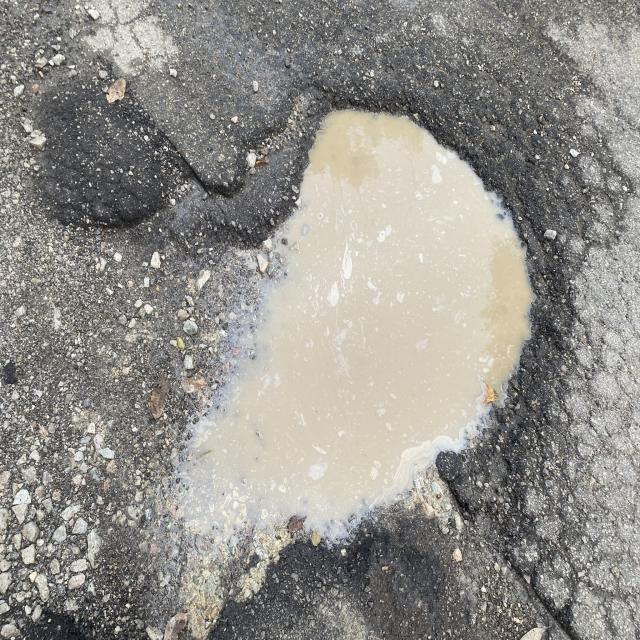Pothole: (150, 29, 594, 573)
